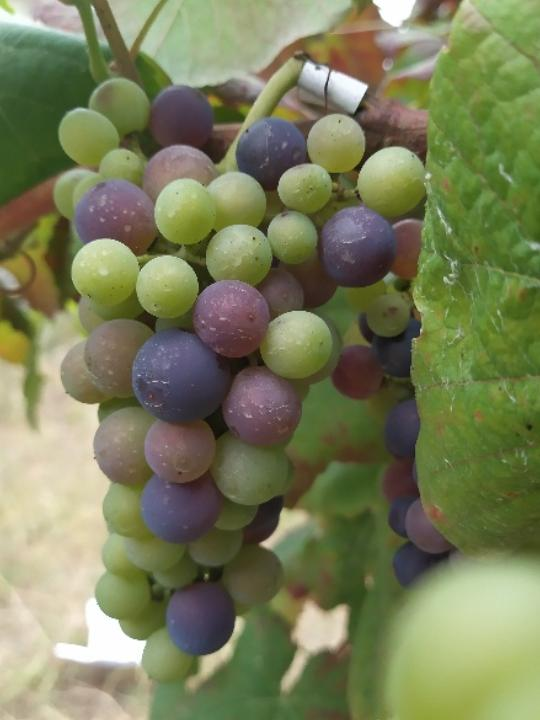grape: (49, 75, 440, 687)
